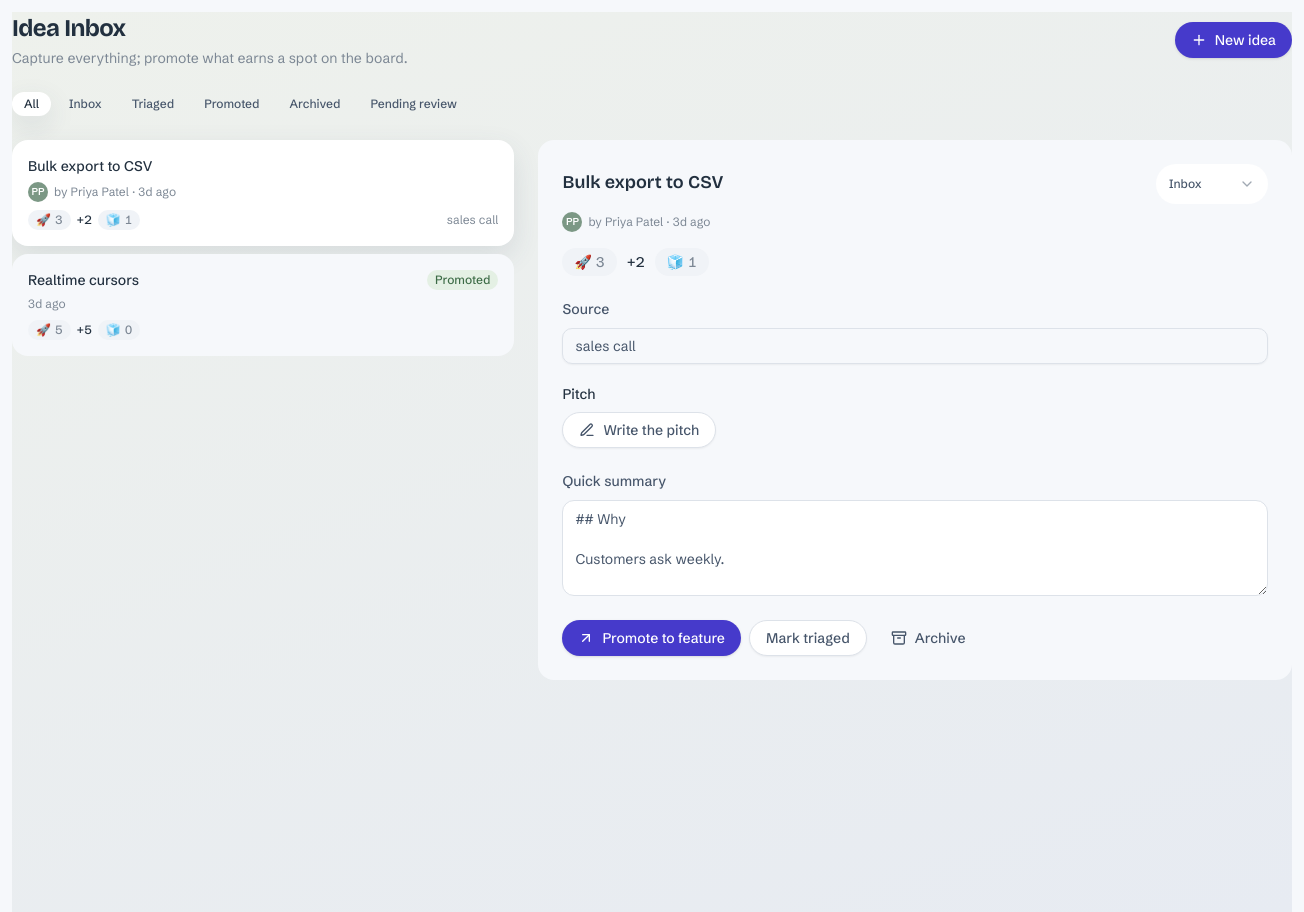
Idea Inbox › status filter chips request server-side filtering
Click the button "Promoted" at (232, 104), box [192,92,272,116]
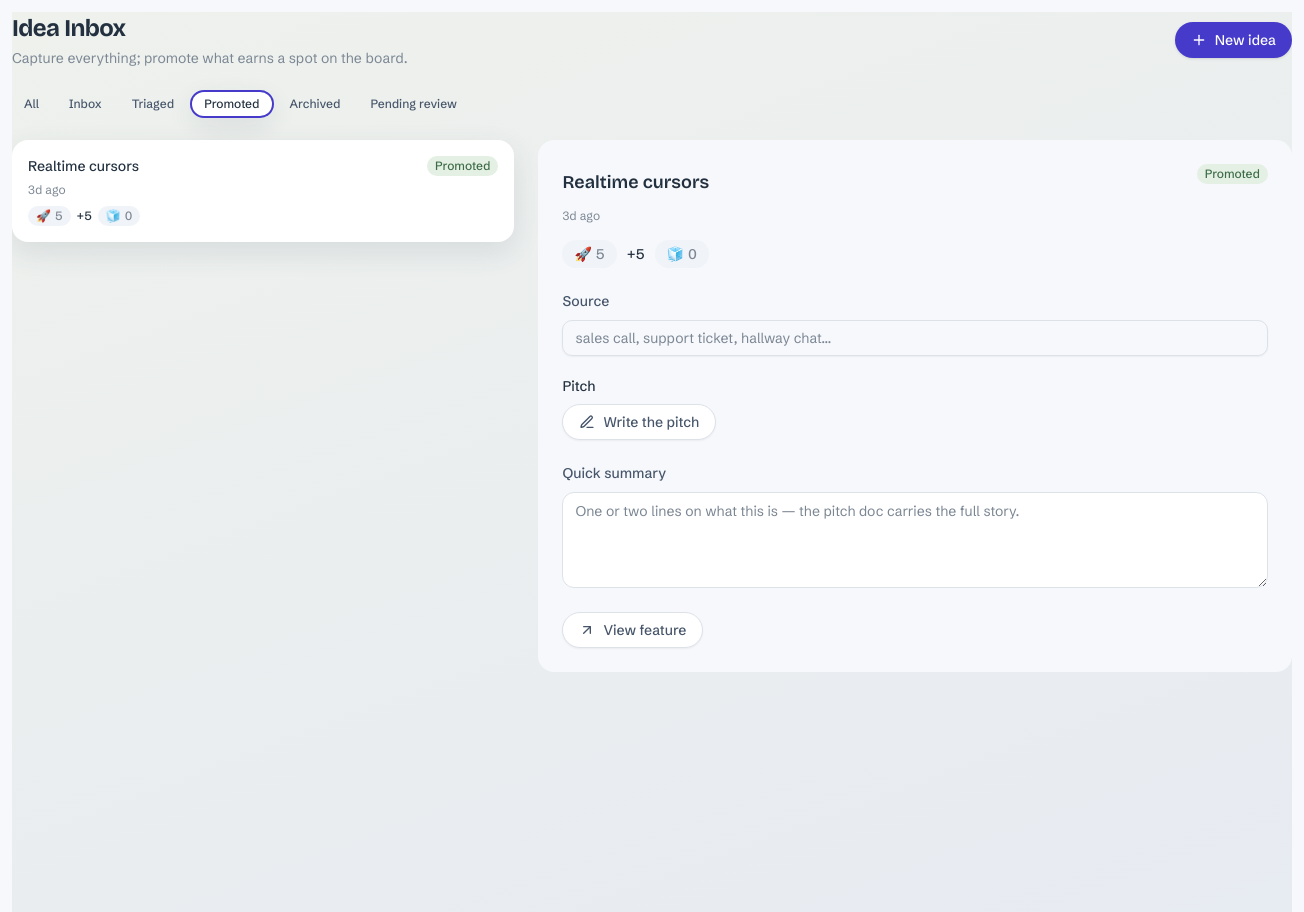
Expected: the text "Realtime cursors" is shown, [28,156,139,176]
Result: the button "Bulk export to CSV" is gone
